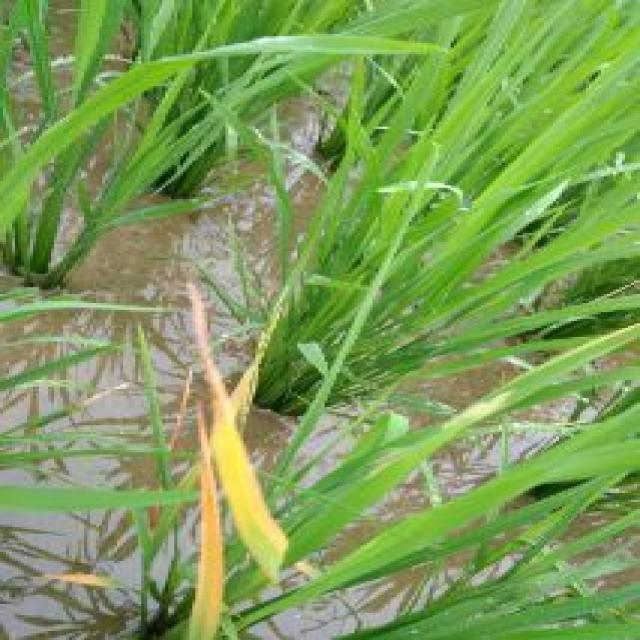Rice Tungro: (184, 341, 280, 640)
